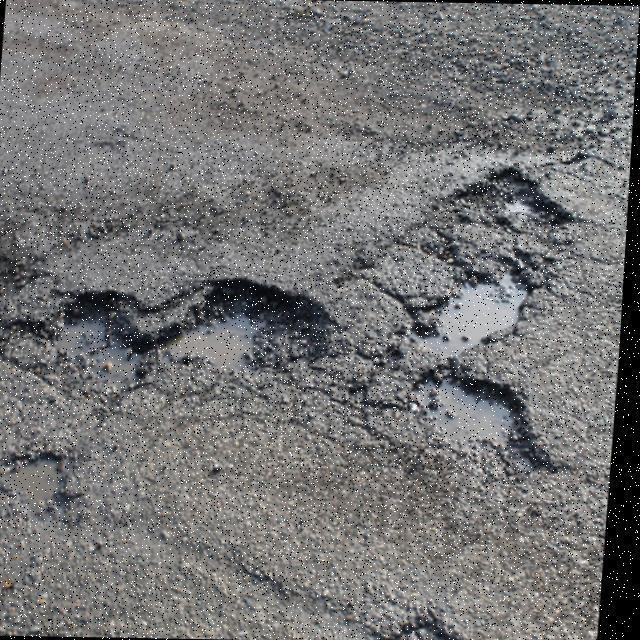Pothole: (42, 264, 356, 419), (395, 257, 563, 485), (465, 165, 575, 237), (7, 437, 83, 528)
